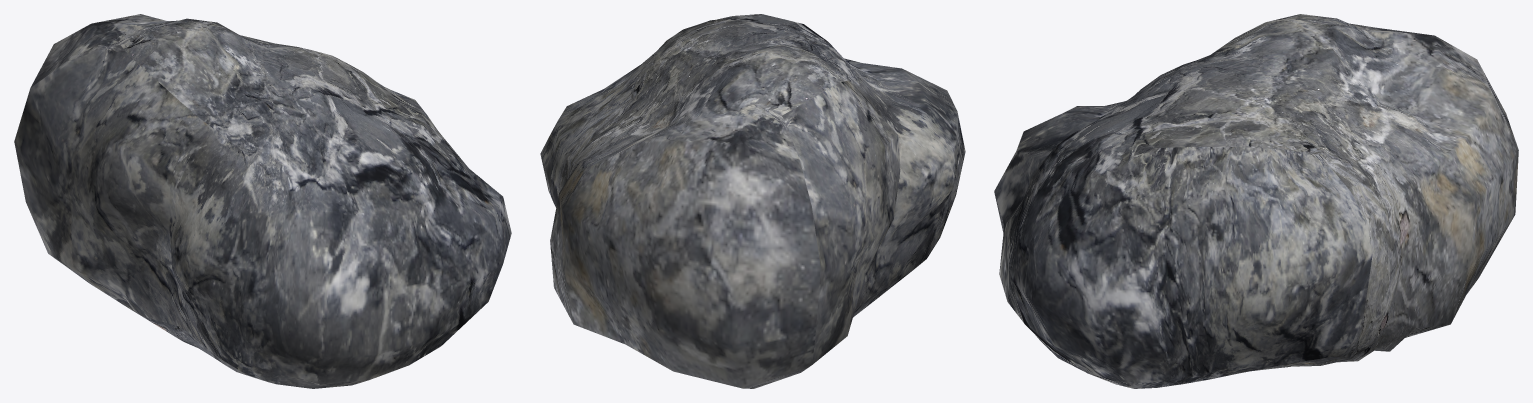
File: rock2.fbx
The picture shows the model from 3 angles, left to right: view 1: azimuth 30°, elevation 25°; view 2: azimuth 150°, elevation 25°; view 3: azimuth 270°, elevation 25°; orthographic projection. The views are drawn at different scales.
Visible parts, largest first — view 1: pCube6; view 2: pCube6; view 3: pCube6.
Part boxes in pixels (x1,y1,x2,y2): pCube6: [14, 14, 511, 388]; pCube6: [540, 14, 965, 388]; pCube6: [994, 14, 1518, 388].
Size of the model in its own units: 4.96 by 4.25 by 6.4.
